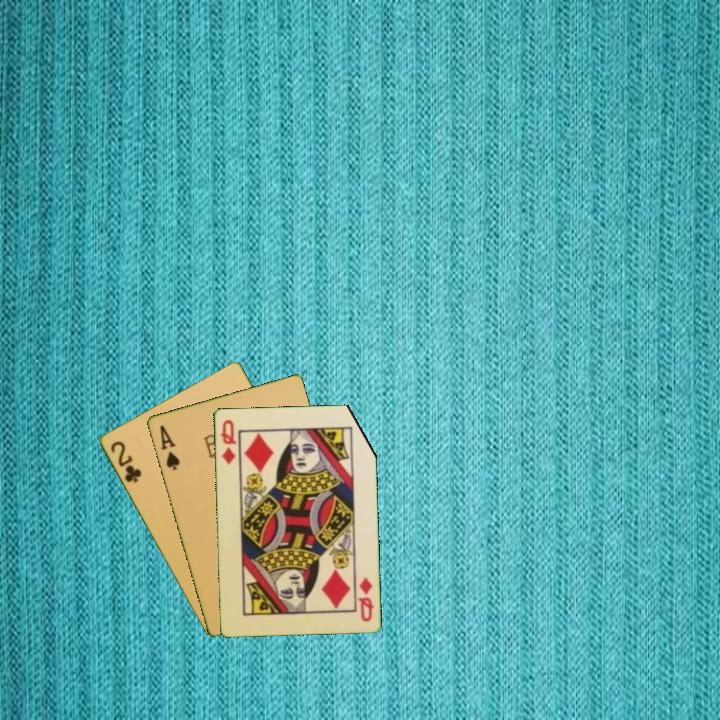2c: (106, 437, 144, 486)
As: (156, 421, 182, 473)
Qd: (354, 574, 376, 624), (217, 416, 238, 467)
